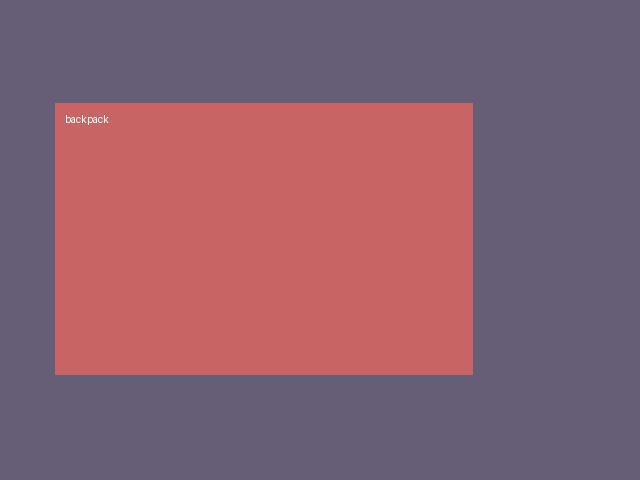backpack: (55, 103, 472, 374)
